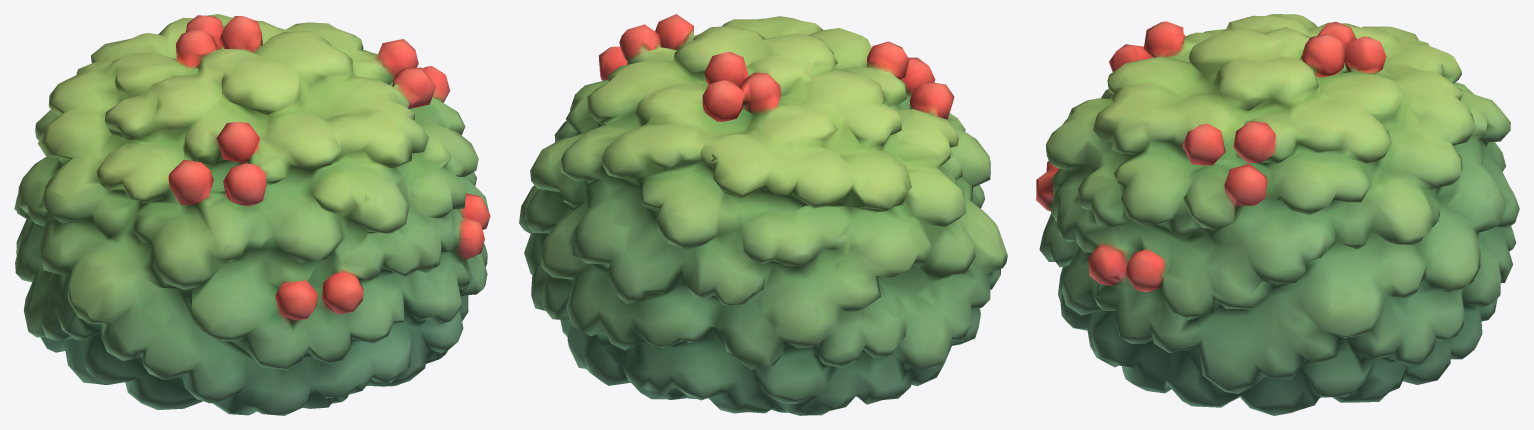
File: berry_bush.glb
3 views of the same model, side by side, from view 1: azimuth 30°, elevation 25°; view 2: azimuth 150°, elevation 25°; view 3: azimuth 270°, elevation 25° (orthographic).
Parts seen in each view (by area): view 1: tripo_node_21b77fbb-8673-45f9-8b80-a14cddb934dc; view 2: tripo_node_21b77fbb-8673-45f9-8b80-a14cddb934dc; view 3: tripo_node_21b77fbb-8673-45f9-8b80-a14cddb934dc.
Part boxes in pixels (x1=…): tripo_node_21b77fbb-8673-45f9-8b80-a14cddb934dc: x1=14, y1=14, x2=490, y2=415; tripo_node_21b77fbb-8673-45f9-8b80-a14cddb934dc: x1=519, y1=14, x2=1007, y2=415; tripo_node_21b77fbb-8673-45f9-8b80-a14cddb934dc: x1=1036, y1=14, x2=1519, y2=415.
Bounding box in the file's own units: 1.28 × 1 × 1.27.
Materials: 1 (1 with a texture image).
